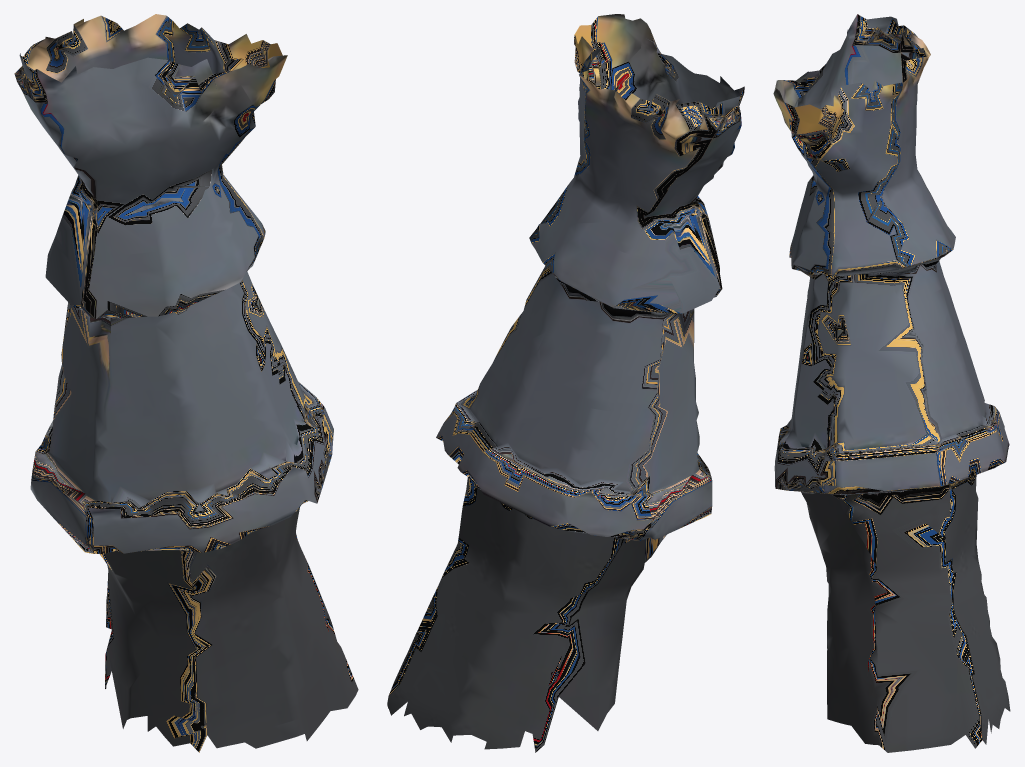
The model's file is templar_glove_B.glb.
3 renders of one model, left to right at view 1: azimuth 30°, elevation 25°; view 2: azimuth 150°, elevation 25°; view 3: azimuth 270°, elevation 25°, orthographic. The views are drawn at different scales.
Parts seen in each view (by area): view 1: glove_R; view 2: glove_R; view 3: glove_R.
Part boxes in pixels (x1,y1,x2,y2): glove_R: [14, 14, 358, 752]; glove_R: [387, 14, 744, 752]; glove_R: [773, 14, 1010, 752].
Size of the model in its own units: 0.1959 by 0.3999 by 0.1424.
Materials: 1 (1 with a texture image).
